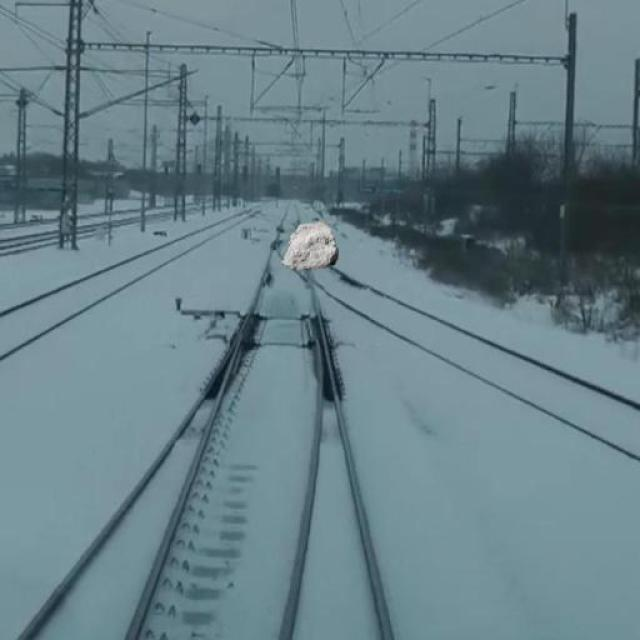Stone: (281, 216, 344, 278)
